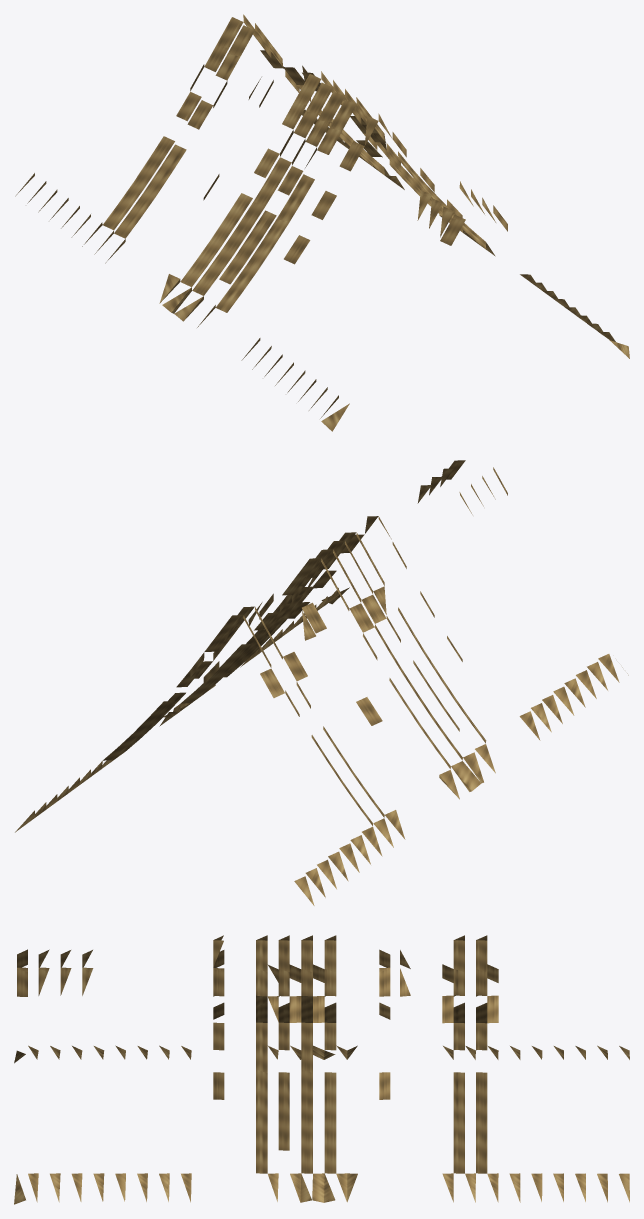
The model's file is Roof_Thatch_6x14_LOD2.gltf.
The picture shows the model from 3 angles, top to bottom: view 1: azimuth 30°, elevation 25°; view 2: azimuth 150°, elevation 25°; view 3: azimuth 270°, elevation 25°; orthographic projection. The views are drawn at different scales.
Parts seen in each view (by area): view 1: Roof_Thatch_6x14_LOD2; view 2: Roof_Thatch_6x14_LOD2; view 3: Roof_Thatch_6x14_LOD2.
Part boxes in pixels (<box>): Roof_Thatch_6x14_LOD2: <box>15,14,629,431</box>; Roof_Thatch_6x14_LOD2: <box>15,460,628,905</box>; Roof_Thatch_6x14_LOD2: <box>14,935,629,1204</box>.
Size of the model in its own units: 8.25 by 5.17 by 14.72.
1 material, 1 textured.
